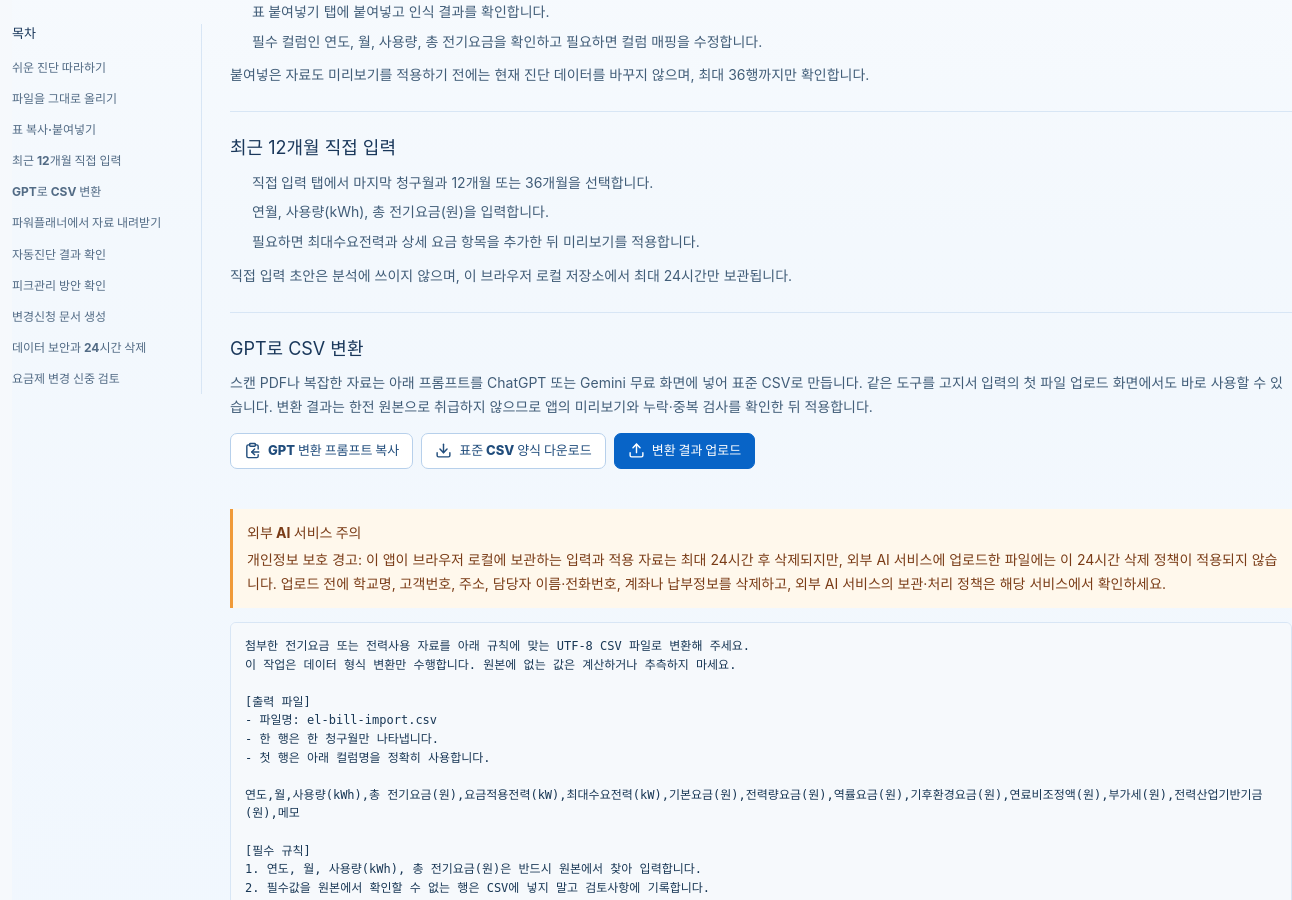
Test: UsageGuide › revokes the CSV object URL when the synthetic download click throws
This screenshot has width=1292, height=900.
(page scrolled)
Click the button "표준 CSV 양식 다운로드". click: (514, 451)
box: [421,433,606,469]
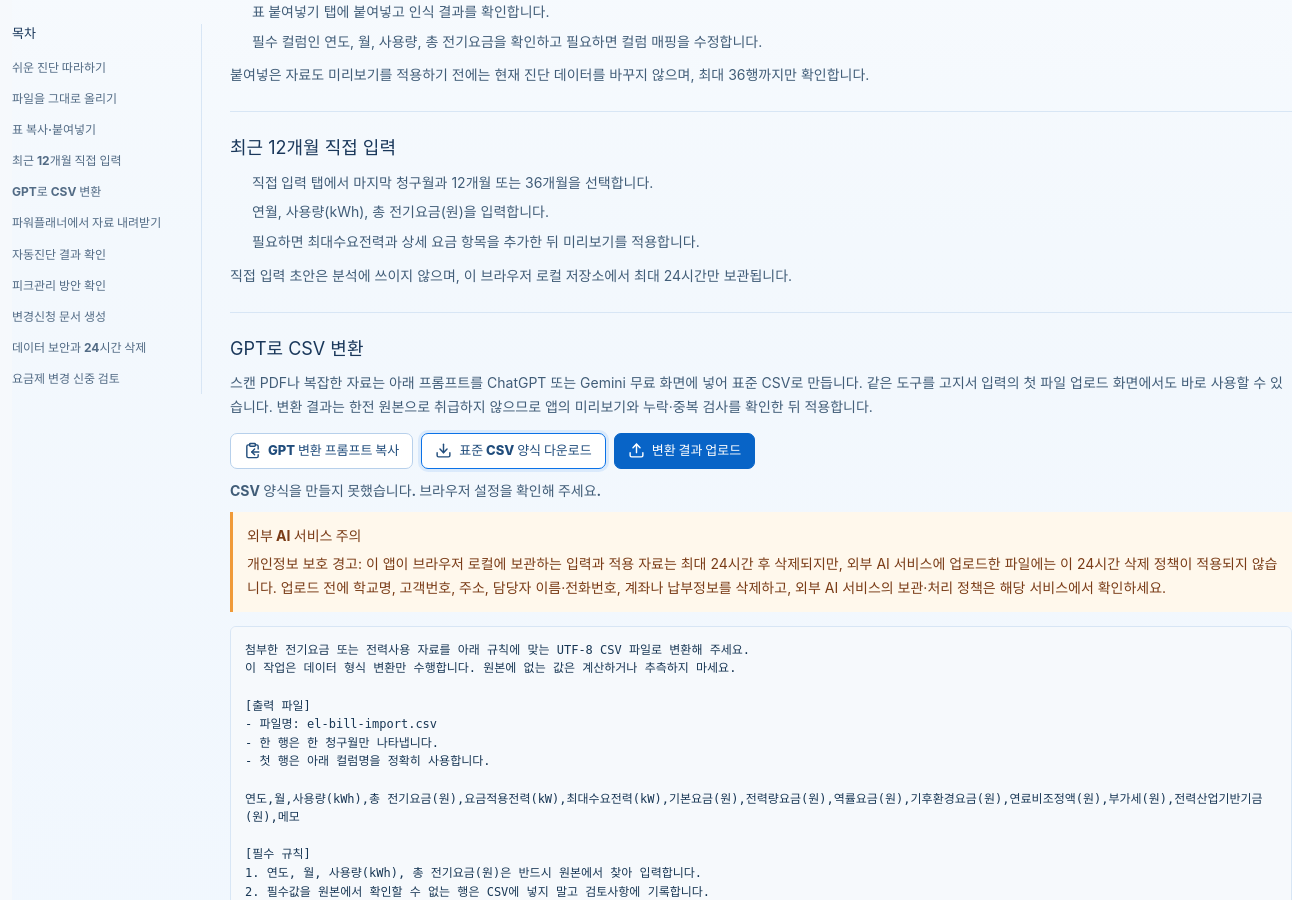
Expected: the message shows "CSV 양식을 만들지 못했습니다", [230,482,601,499]
